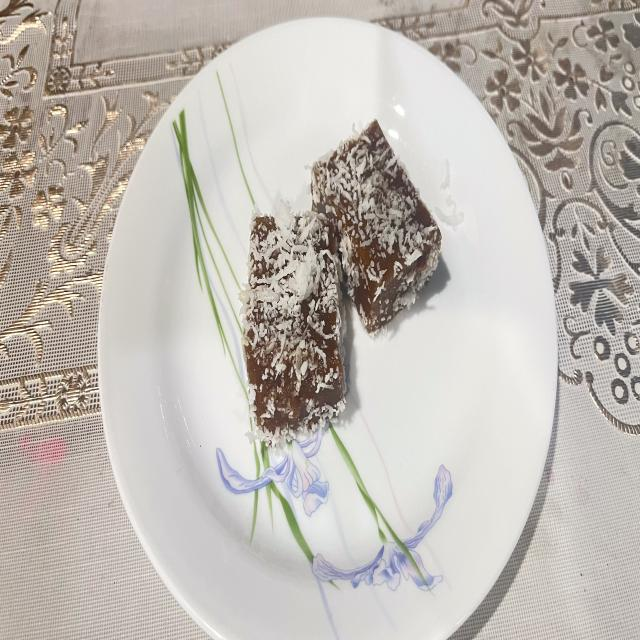kaswi: (311, 120, 441, 333), (241, 200, 345, 447)
